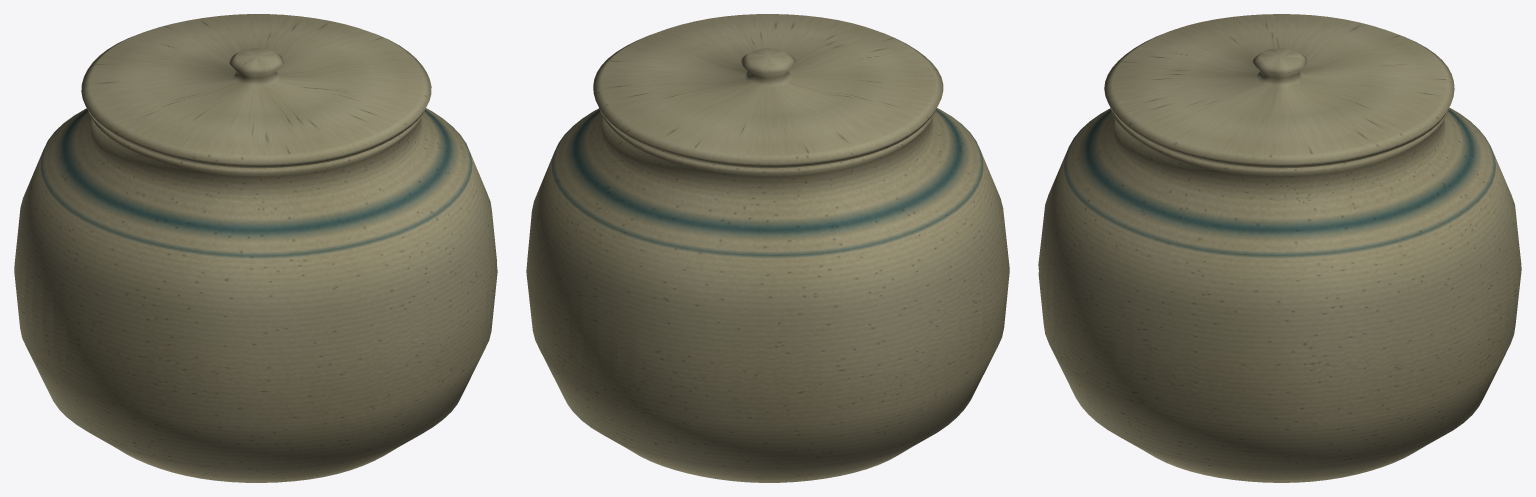
The model's file is B075HWTX4Z.glb.
The picture shows the model from 3 angles, left to right: view 1: azimuth 30°, elevation 25°; view 2: azimuth 150°, elevation 25°; view 3: azimuth 270°, elevation 25°; orthographic projection.
Parts seen in each view (by area): view 1: jar 1, jar 1 lid; view 2: jar 1, jar 1 lid; view 3: jar 1, jar 1 lid.
Part boxes in pixels (<box>): jar 1: <box>14,108,497,482</box>; jar 1 lid: <box>81,14,431,168</box>; jar 1: <box>526,108,1009,482</box>; jar 1 lid: <box>593,14,943,168</box>; jar 1: <box>1038,107,1521,482</box>; jar 1 lid: <box>1104,14,1454,168</box>.
Bounding box in the file's own units: 1.39 × 1.15 × 1.39.
2 materials, 1 textured.
